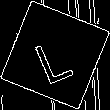L_NW: (31, 26, 79, 84)
